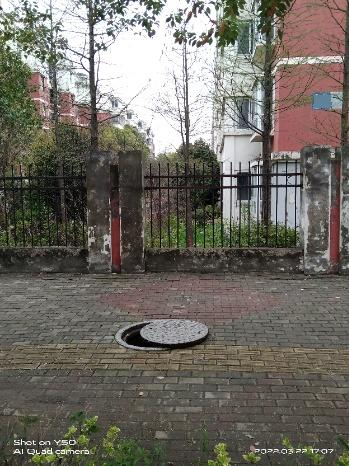wellcover: (114, 314, 215, 355)
